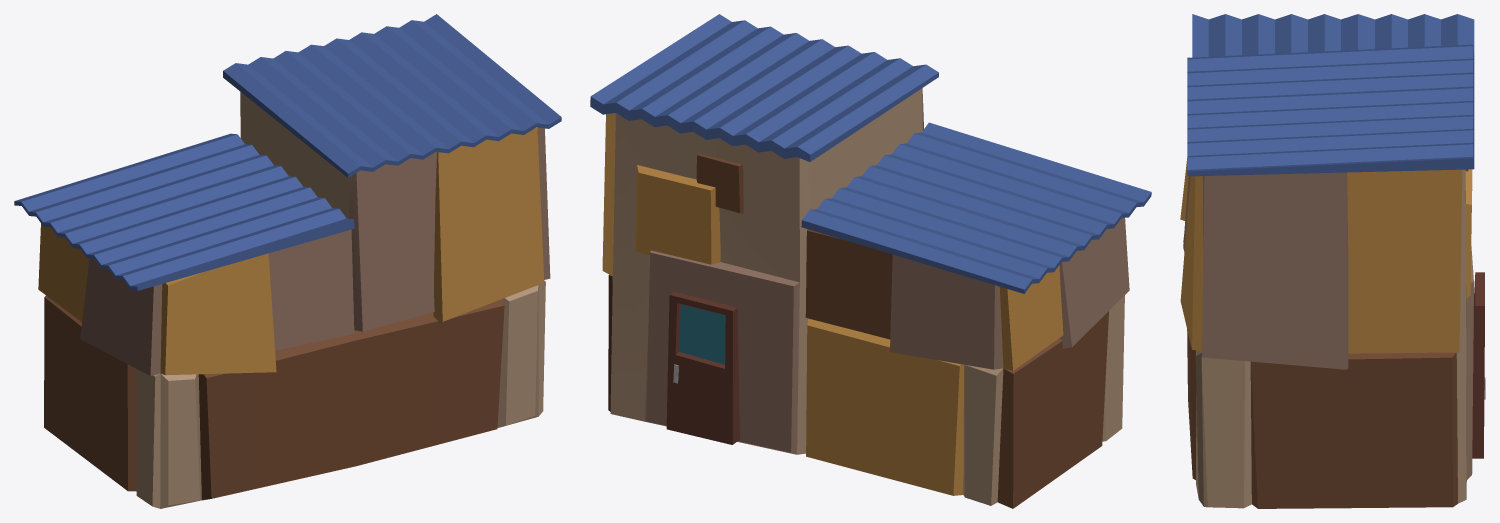
Rendered from House_2.fbx.
3 views of the same model, side by side, from view 1: azimuth 30°, elevation 25°; view 2: azimuth 150°, elevation 25°; view 3: azimuth 270°, elevation 25° (orthographic). The views are drawn at different scales.
Parts seen in each view (by area): view 1: House_2; view 2: House_2; view 3: House_2.
Part boxes in pixels (x1,y1,x2,y2): House_2: [14, 14, 561, 508]; House_2: [590, 14, 1151, 508]; House_2: [1180, 14, 1485, 508].
Bounding box in the file's own units: 13.25 × 9.39 × 7.22.
